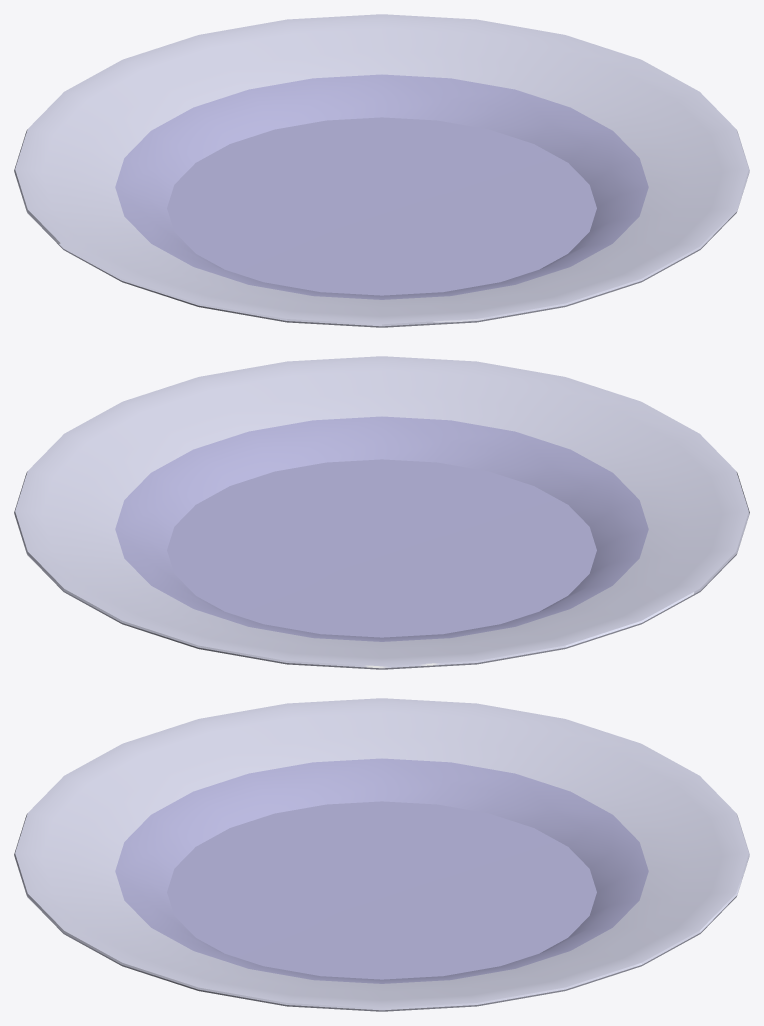
The model's file is piring bersih v2.fbx.
3 renders of one model, top to bottom at view 1: azimuth 30°, elevation 25°; view 2: azimuth 150°, elevation 25°; view 3: azimuth 270°, elevation 25°, orthographic.
Parts seen in each view (by area): view 1: Plate; view 2: Plate; view 3: Plate.
Boxes of the visible parts, x1,y1,x2,y2 form: Plate: [14, 14, 749, 327]; Plate: [14, 356, 749, 669]; Plate: [14, 698, 749, 1011].
Bounding box in the file's own units: 26.75 × 1.98 × 26.75.
